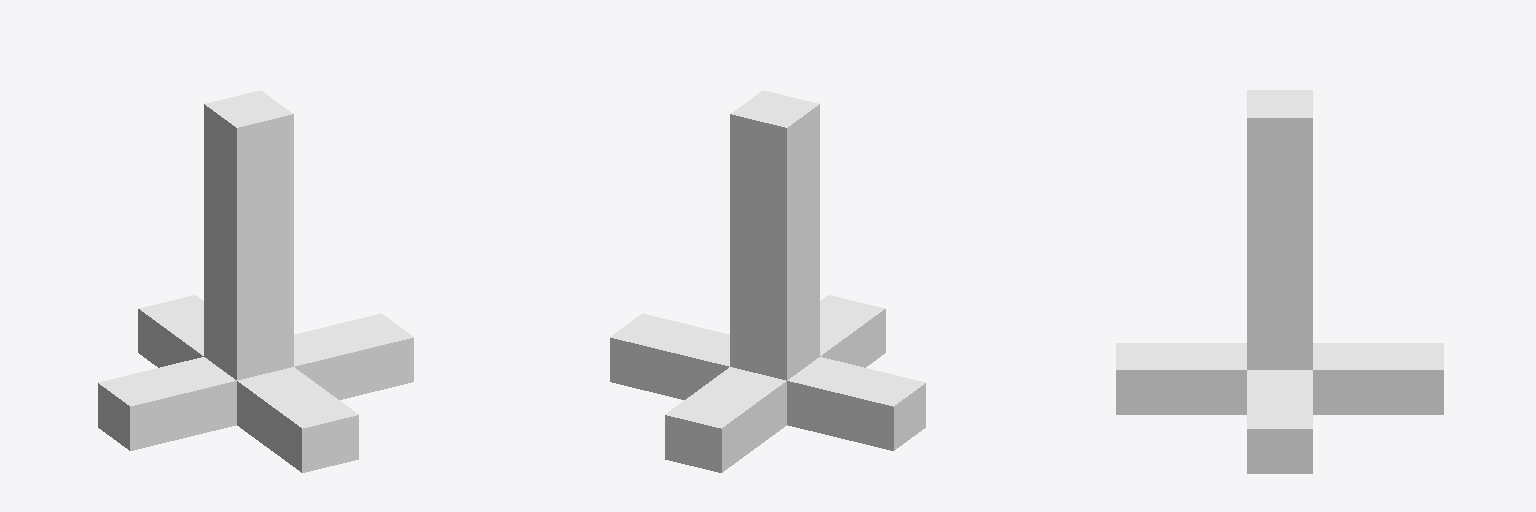
File: misile.obj
3 renders of one model, left to right at view 1: azimuth 30°, elevation 25°; view 2: azimuth 150°, elevation 25°; view 3: azimuth 270°, elevation 25°, orthographic.
Visible parts, largest first — view 1: object 1; view 2: object 1; view 3: object 1.
Boxes of the visible parts, <box> form: object 1: <box>98,90,413,472</box>; object 1: <box>610,90,925,472</box>; object 1: <box>1116,90,1443,473</box>.
Bounding box in the file's own units: 4 × 4 × 4.